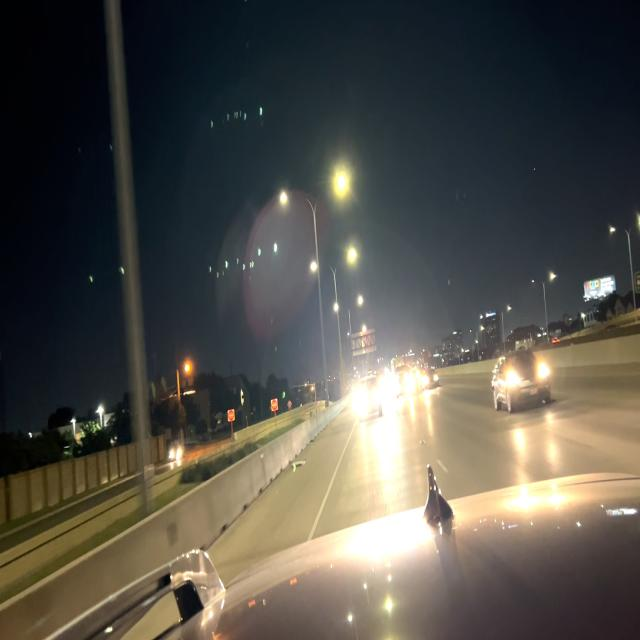back-of-sign: (351, 328, 378, 358)
